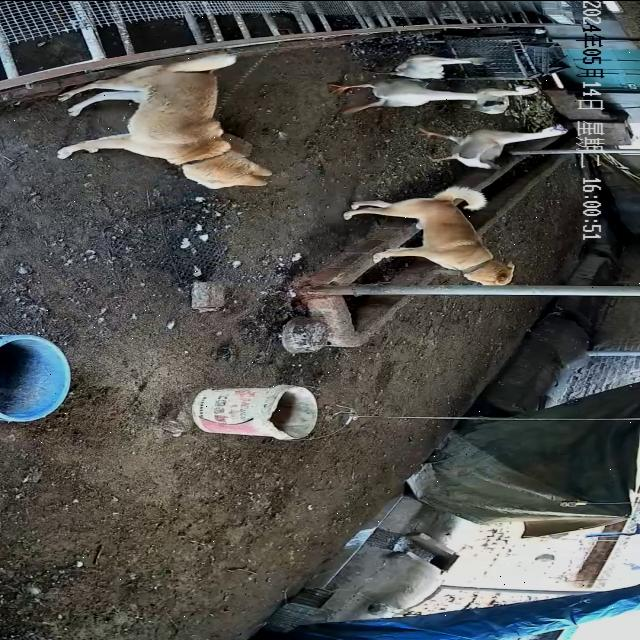dog: (56, 51, 276, 190), (344, 186, 518, 286)
